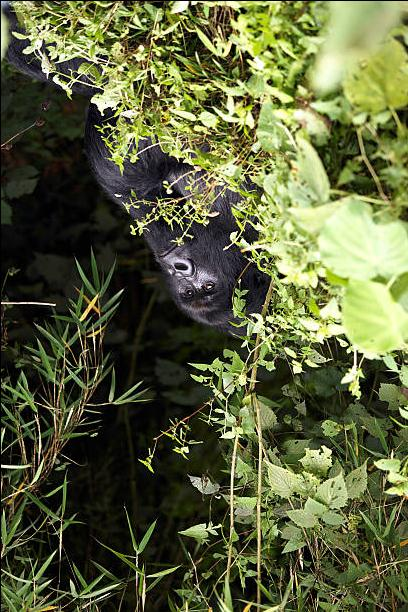goriile_montagne: (16, 10, 316, 388)
